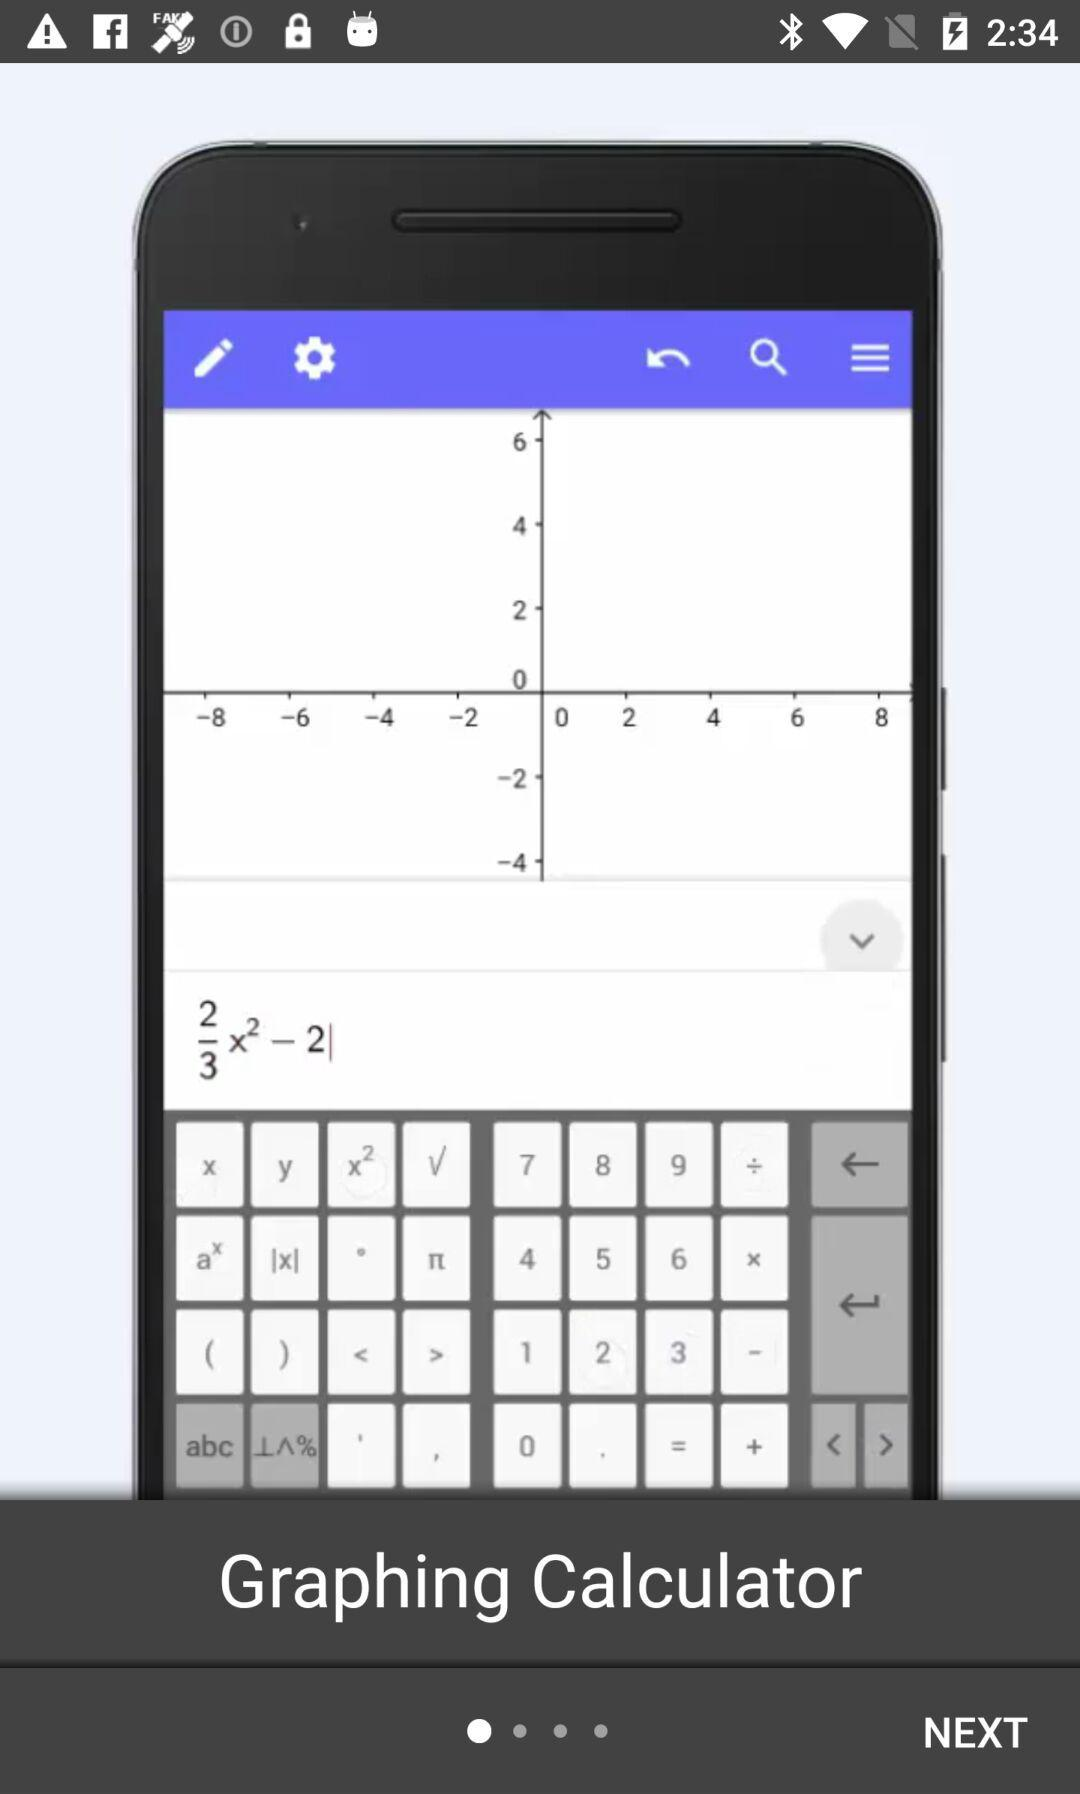Image: (129, 137, 949, 1501)
PageIndicator: (466, 1717, 610, 1745)
Text: (222, 1551, 863, 1625), (924, 1716, 1029, 1750)
UpperTaskBar: (1, 1, 1080, 64)
